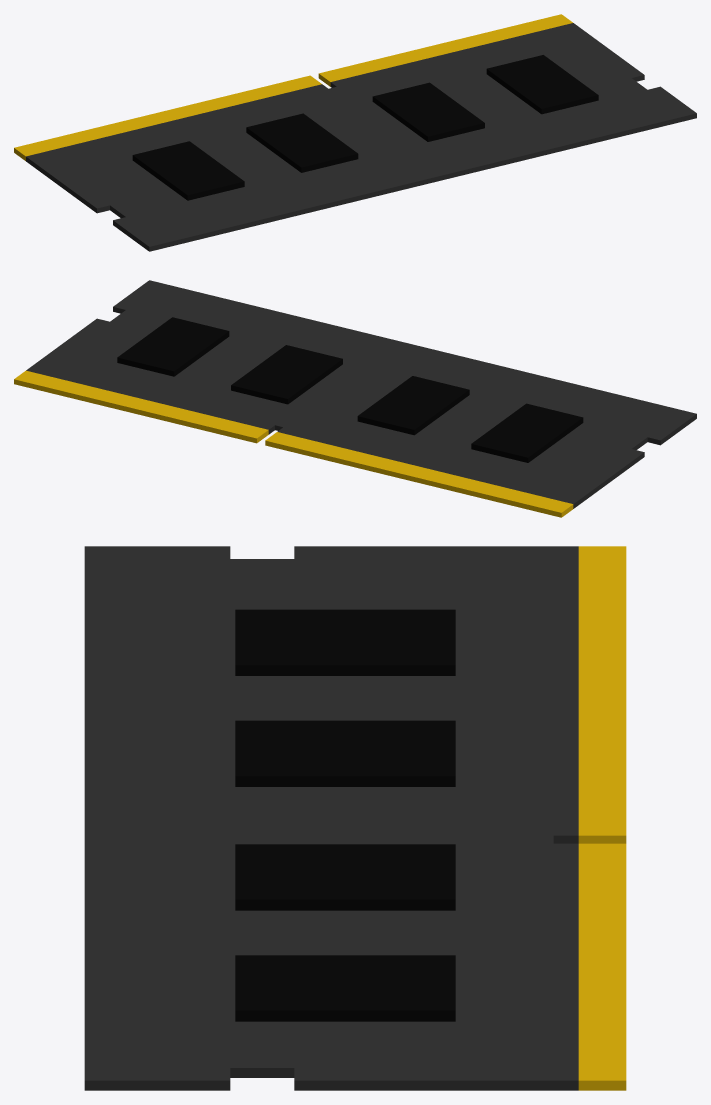
File: Laptop_RAM2.fbx
The picture shows the model from 3 angles, top to bottom: view 1: azimuth 30°, elevation 25°; view 2: azimuth 150°, elevation 25°; view 3: azimuth 270°, elevation 25°; orthographic projection. The views are drawn at different scales.
Visible parts, largest first — view 1: Laptop_RAM_Stick.003; view 2: Laptop_RAM_Stick.003; view 3: Laptop_RAM_Stick.003.
Boxes of the visible parts, left/top/right/bottom form: Laptop_RAM_Stick.003: left=14, top=14, right=696, bottom=251; Laptop_RAM_Stick.003: left=14, top=280, right=696, bottom=517; Laptop_RAM_Stick.003: left=84, top=546, right=626, bottom=1090.
Bounding box in the file's own units: 31.87 × 0.5725 × 13.65.
